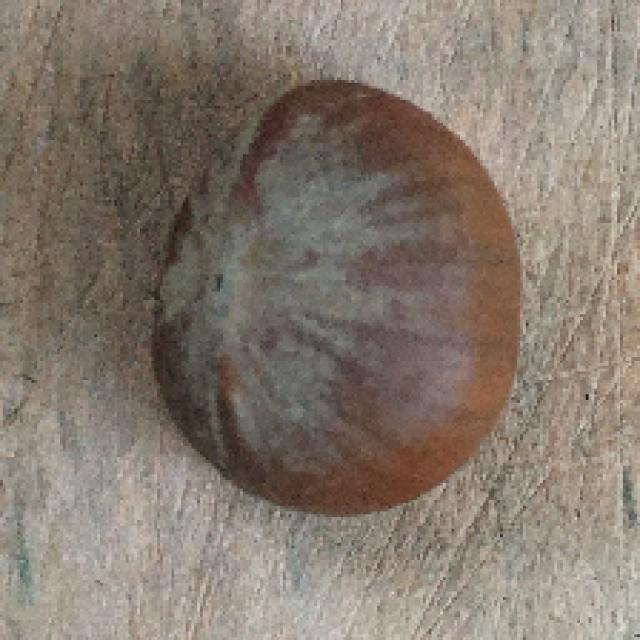qualityHazelnut: (140, 77, 525, 522)
